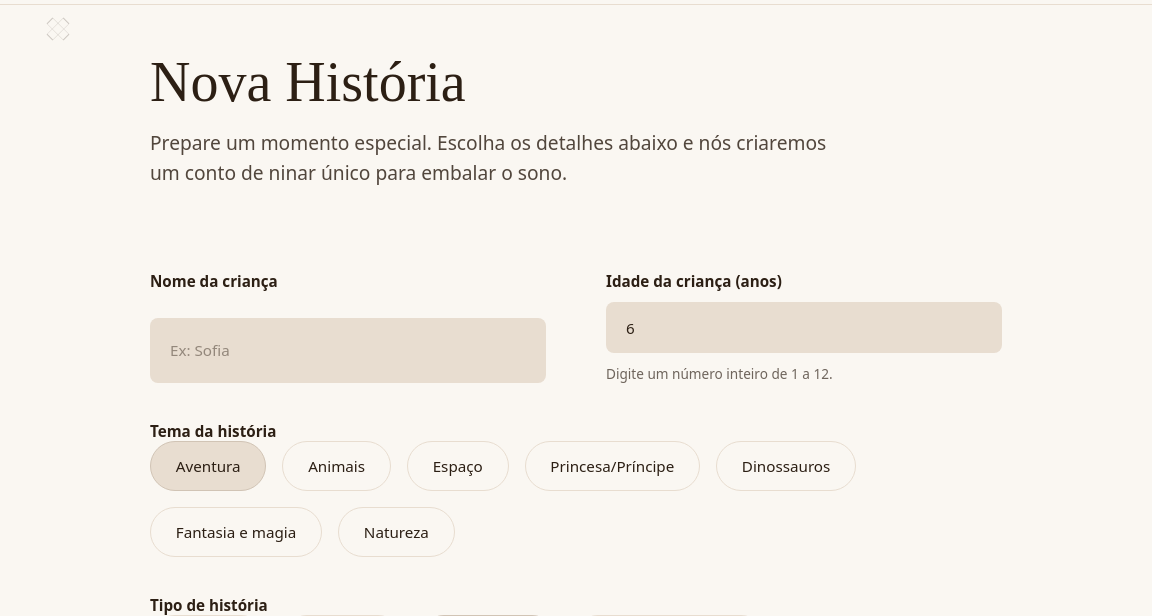
Test case: TabShell › keeps user in Create and shows retry messaging when generation fails
Step 1. Type "Luna" into the field labelled "Nome da criança" → x=348, y=350, box [150,318,546,383]
(page scrolled)
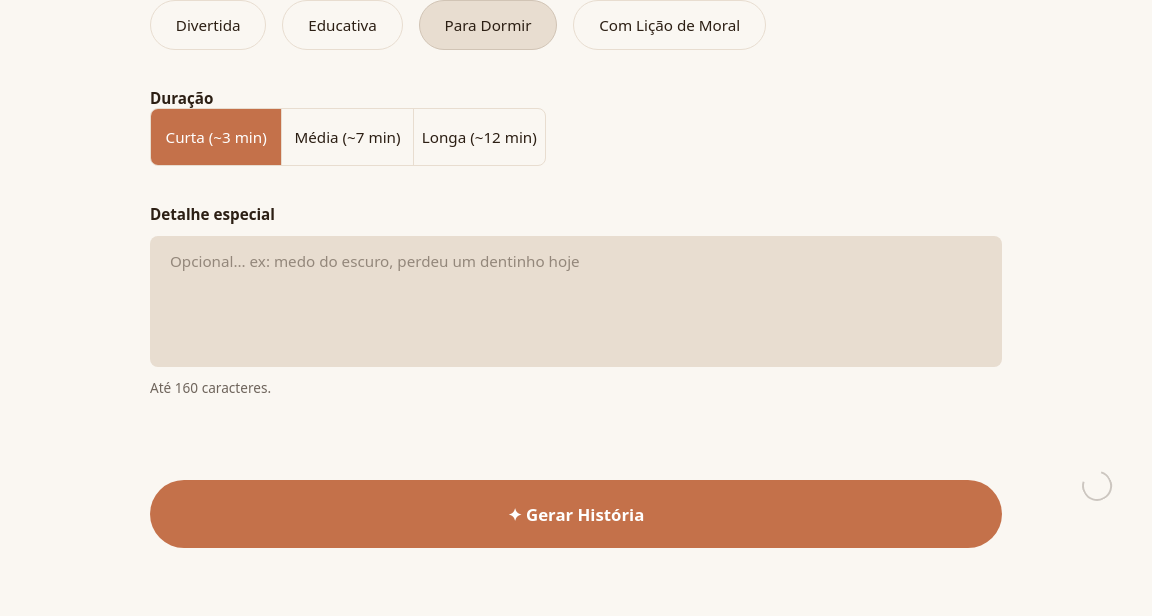
Step 2. Click the button "✦ Gerar História" → x=576, y=514, box [150,480,1002,548]
(page scrolled)
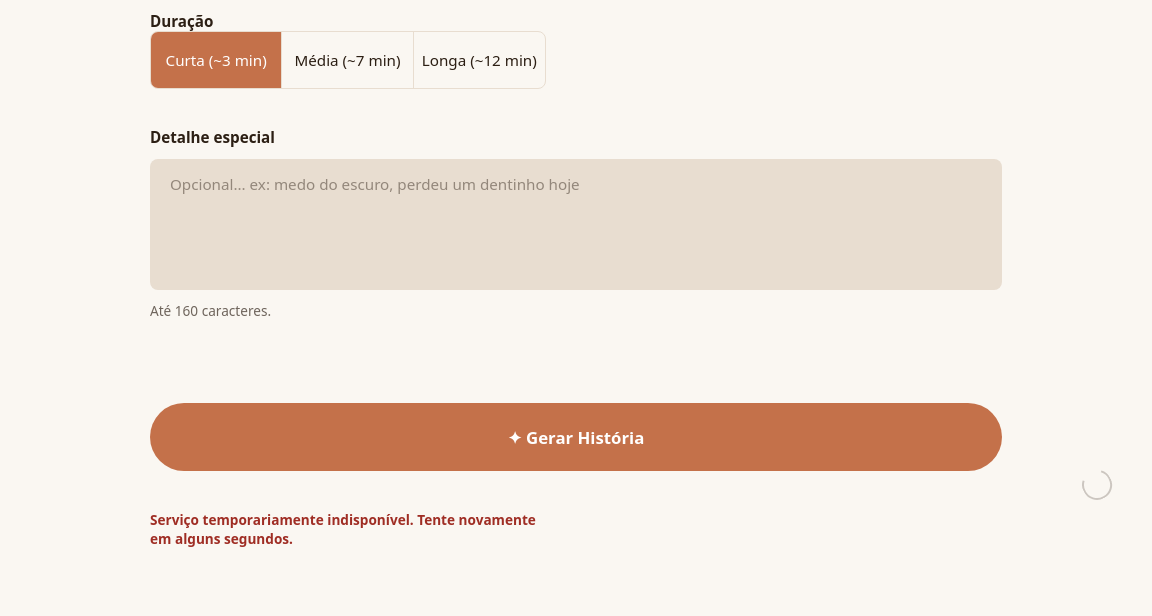
Expected: the button "✦ Gerar História" is shown, [150,403,1002,471]
Result: the text "Serviço temporariamente indisponível. Tente novamente em alguns segundos." is shown at [150,510,546,548]
